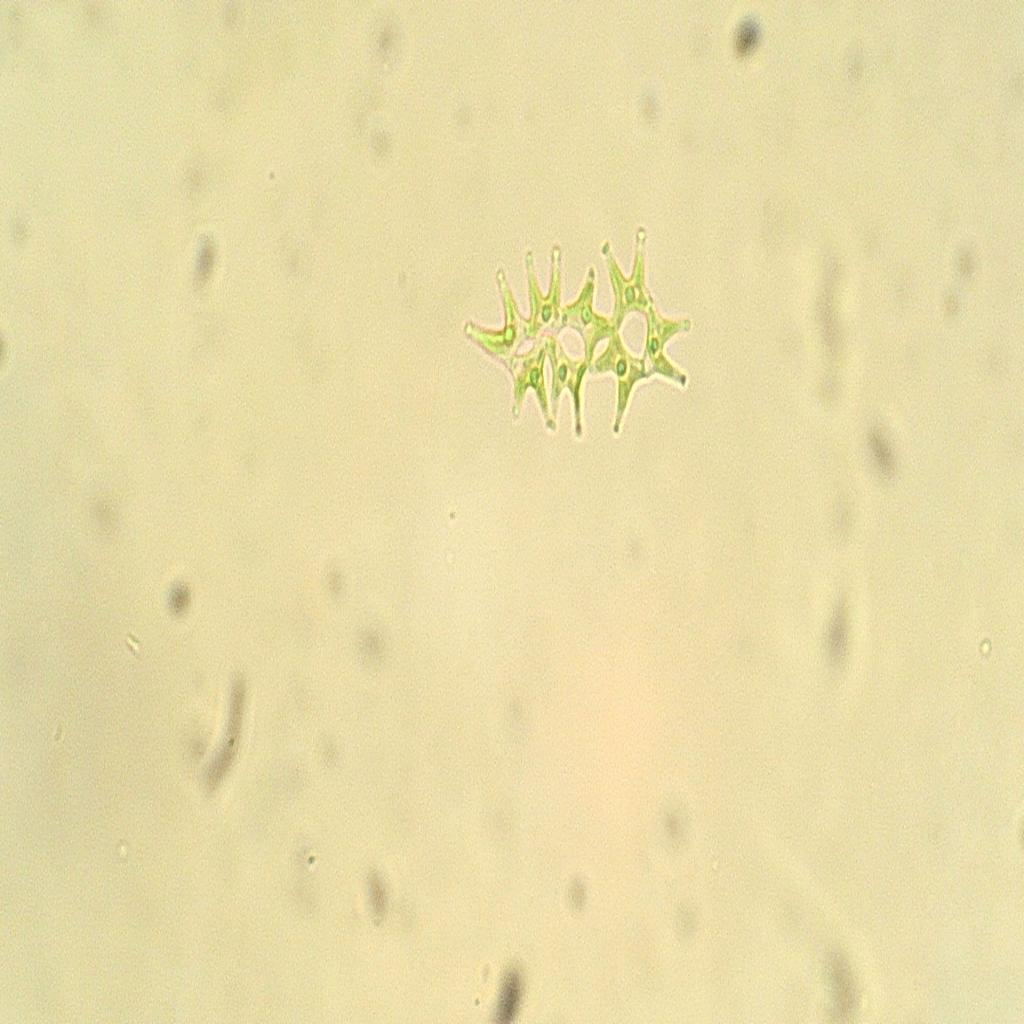Pediastrum_1TH: (431, 216, 722, 455)
